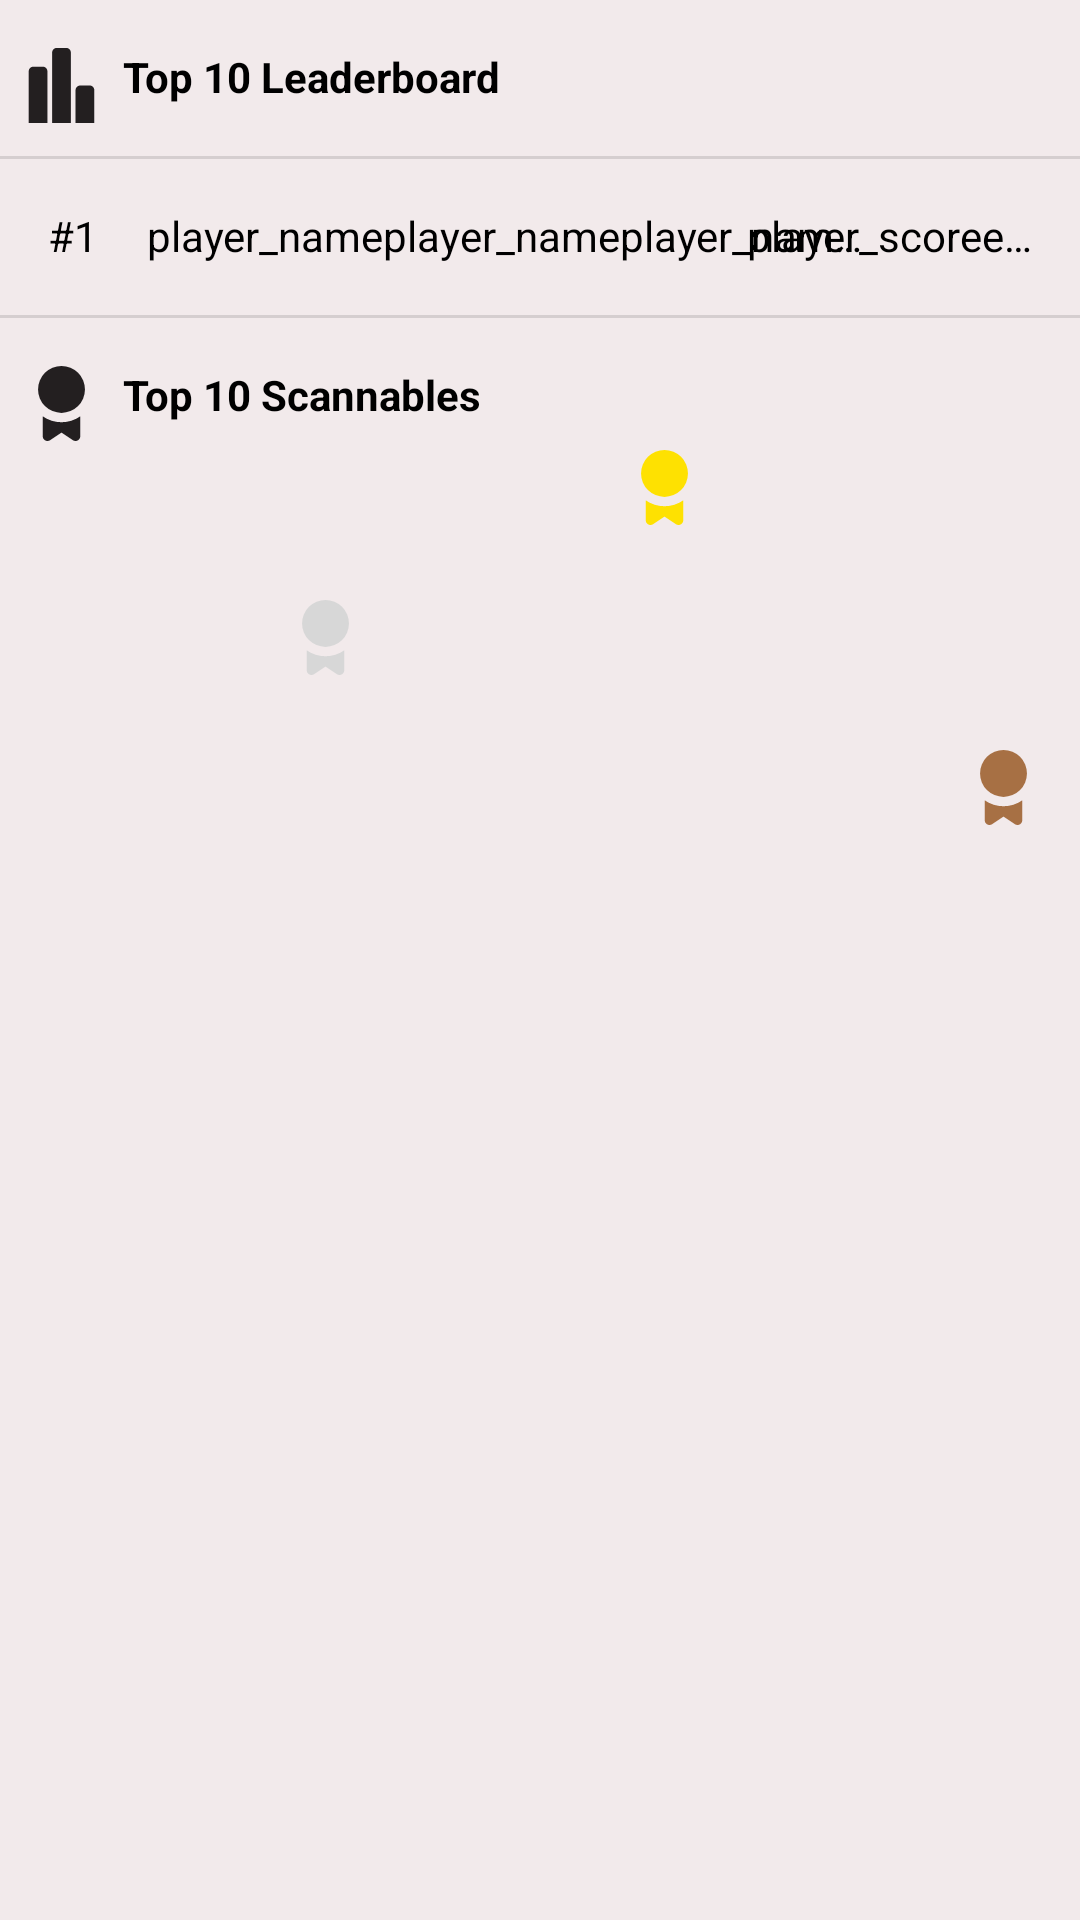

Icons on this 1080 x 1920 Android screen, each with its box as (x1, y1, x2, y2):
medal: (38, 366, 85, 441), (641, 450, 688, 525), (302, 600, 349, 675), (980, 750, 1027, 825)
ranking: (28, 48, 95, 123)
